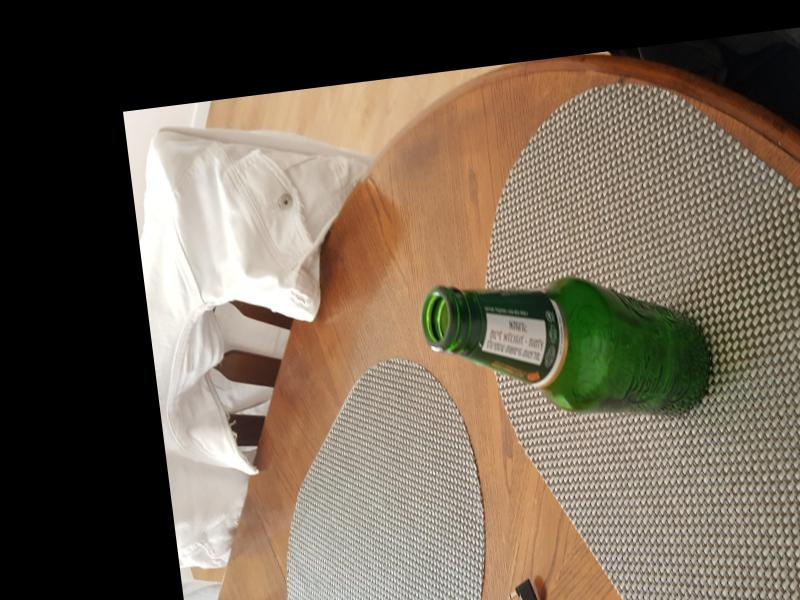Beer: (422, 265, 716, 446)
